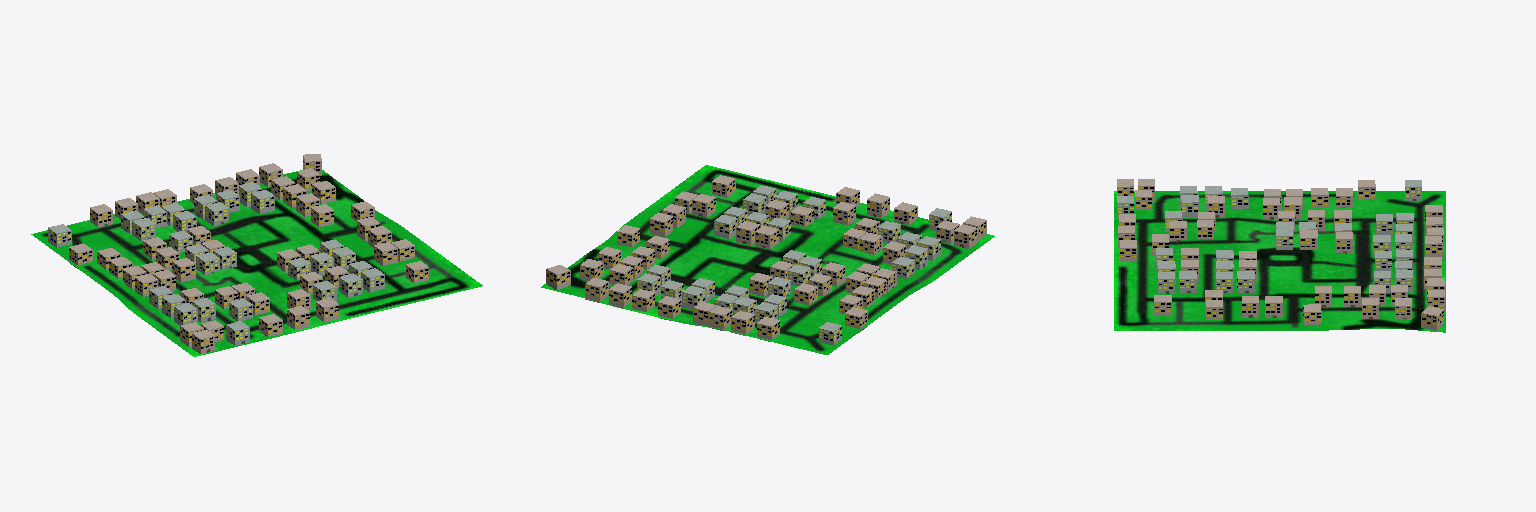
3 renders of one model, left to right at view 1: azimuth 30°, elevation 25°; view 2: azimuth 150°, elevation 25°; view 3: azimuth 270°, elevation 25°, orthographic.
Visible parts, largest first — view 1: Plane; view 2: Plane; view 3: Plane.
Boxes of the visible parts, <box> form: Plane: <box>31,170,482,356</box>; Plane: <box>541,165,994,354</box>; Plane: <box>1114,191,1445,332</box>.
Bounding box in the file's own units: 7.73 × 0.5036 × 7.66.
Materials: 2 (2 with a texture image).